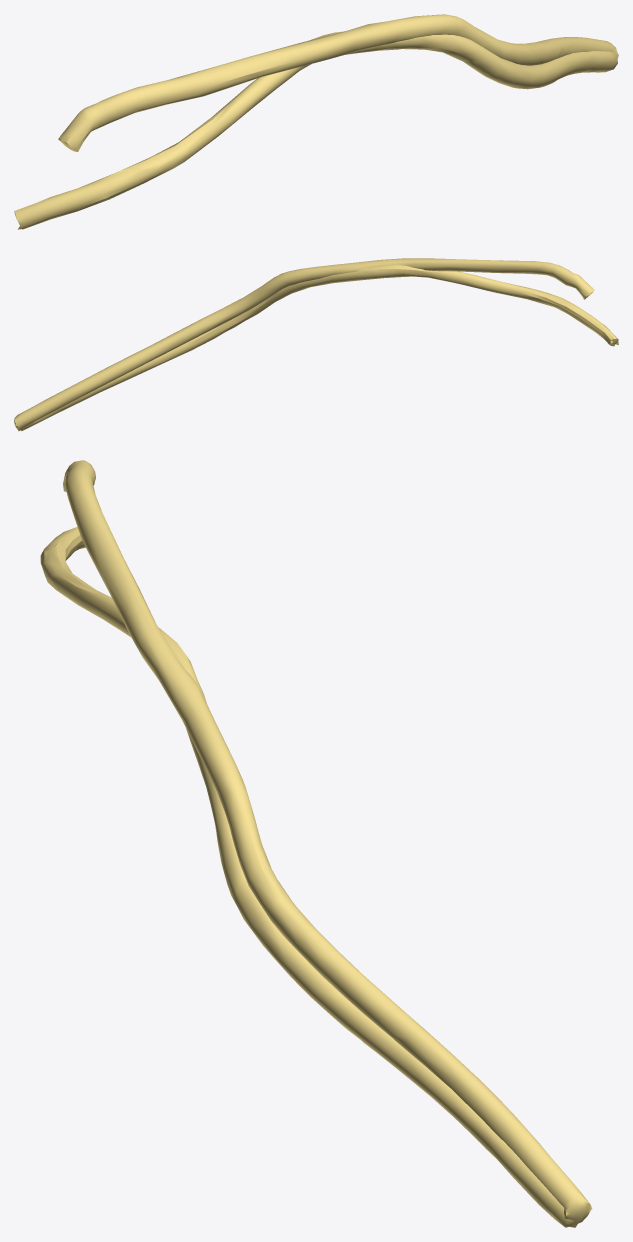
The model's file is fma53453_mm2620m.glb.
3 renders of one model, top to bottom at view 1: azimuth 30°, elevation 25°; view 2: azimuth 150°, elevation 25°; view 3: azimuth 270°, elevation 25°, orthographic. The views are drawn at different scales.
Parts seen in each view (by area): view 1: FMA53453_MM2620M; view 2: FMA53453_MM2620M; view 3: FMA53453_MM2620M.
Boxes of the visible parts, x1,y1,x2,y2 form: FMA53453_MM2620M: [14, 14, 618, 229]; FMA53453_MM2620M: [14, 258, 618, 431]; FMA53453_MM2620M: [40, 460, 592, 1227].
Size of the model in its own units: 0.0299 by 0.0105 by 0.0149.
